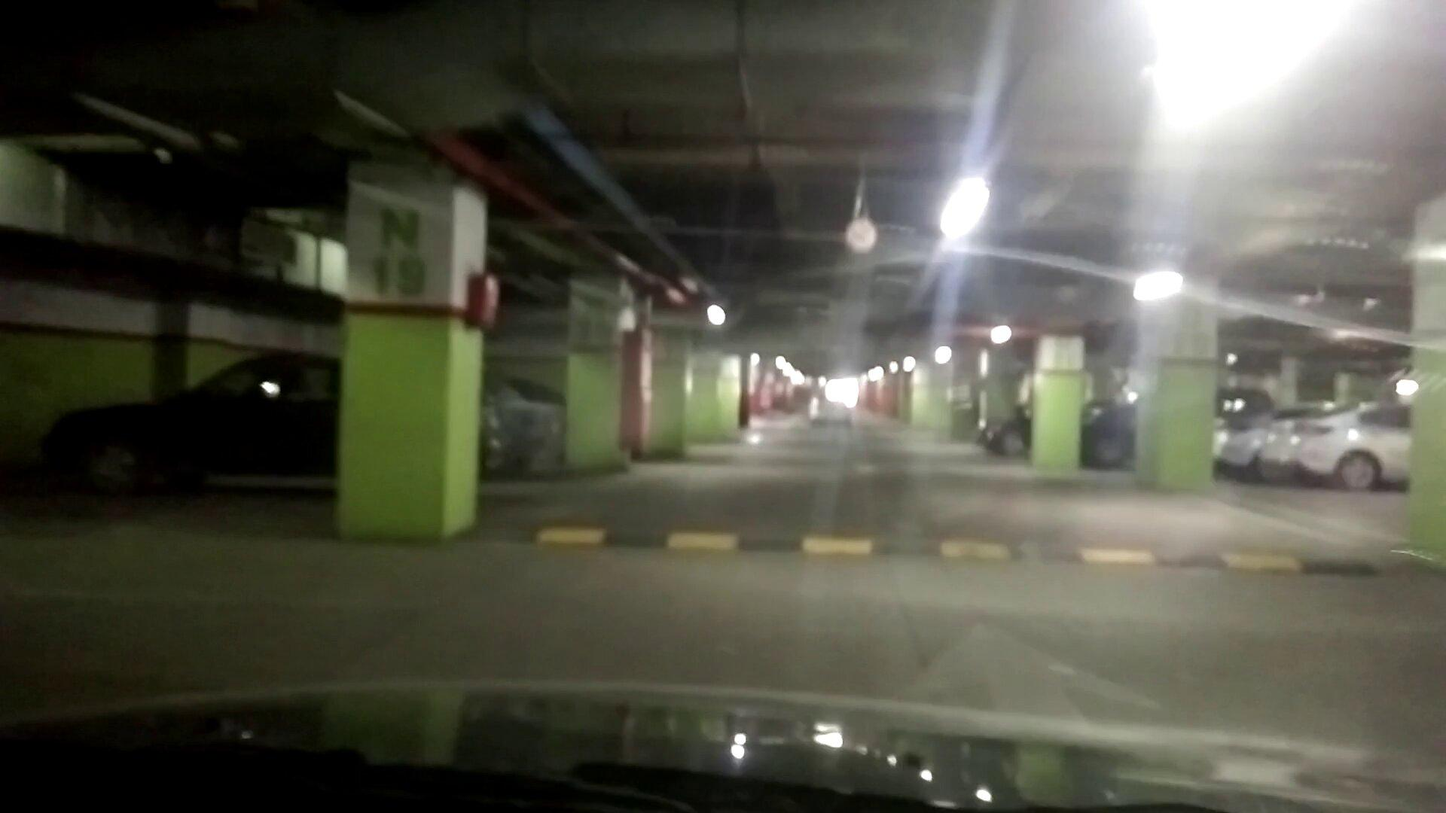Bump: (518, 523, 1406, 582)
